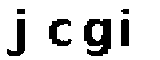c: (45, 19, 77, 50)
g: (82, 17, 114, 58)
i: (117, 6, 142, 54)
j: (4, 6, 31, 60)
